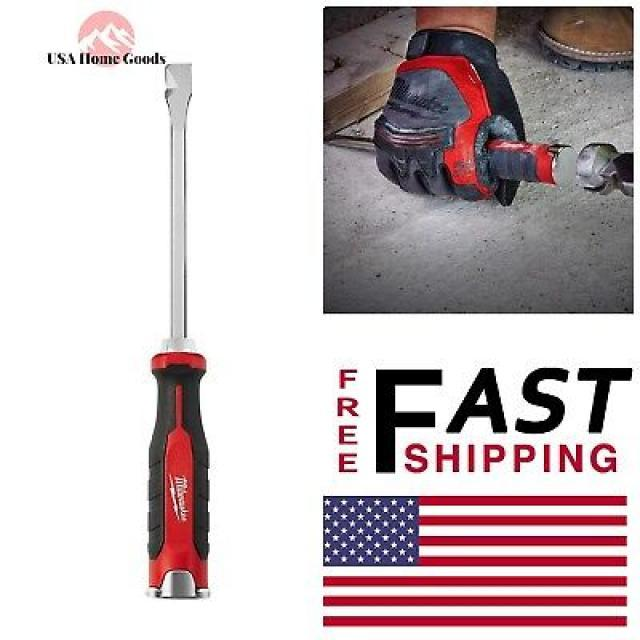screwdriver: (130, 58, 220, 608)
